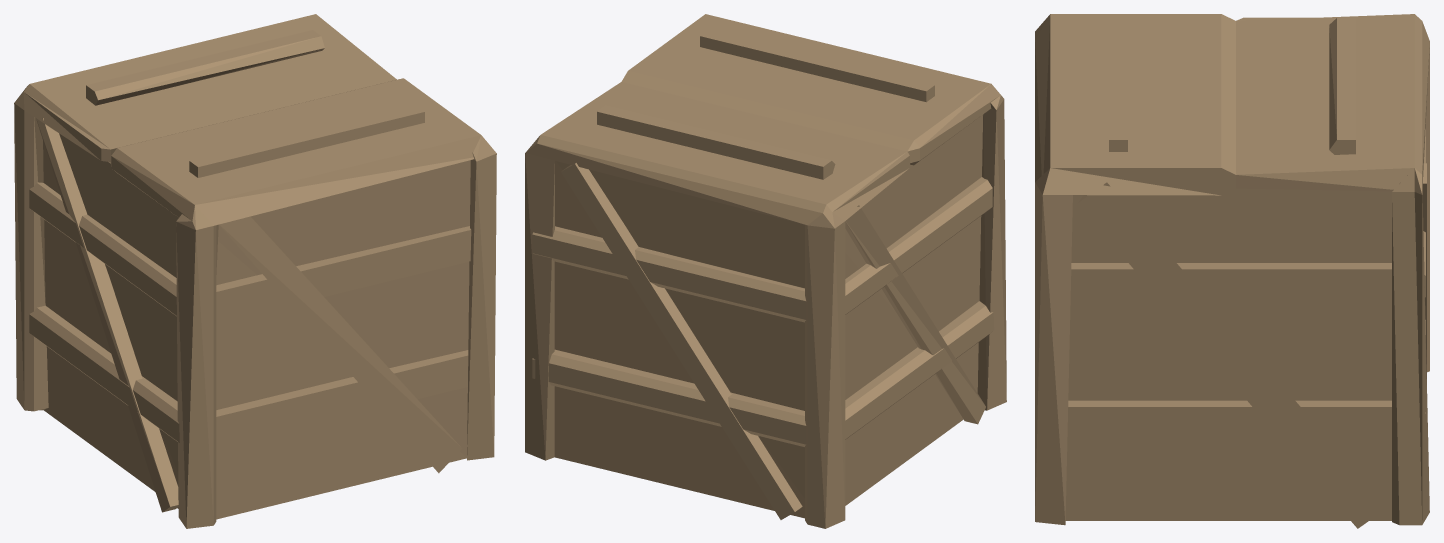
File: crate.lod1.glb
3 renders of one model, left to right at view 1: azimuth 30°, elevation 25°; view 2: azimuth 150°, elevation 25°; view 3: azimuth 270°, elevation 25°, orthographic. The views are drawn at different scales.
Bounding box in the file's own units: 1.04 × 1.08 × 1.04.
